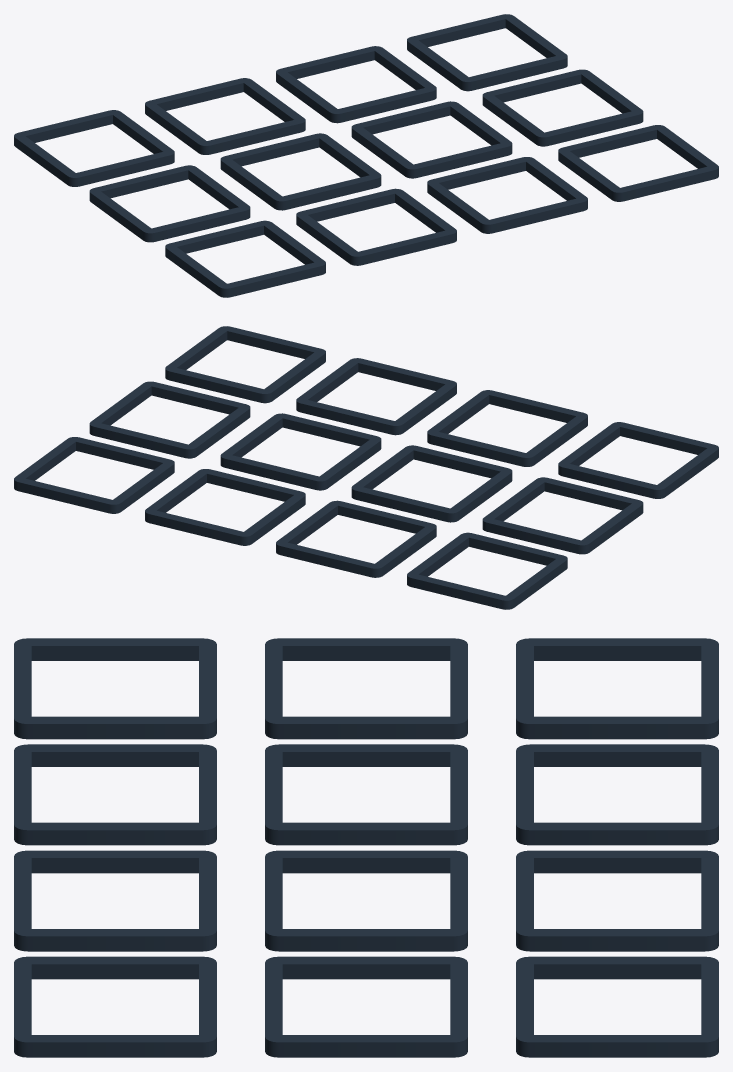
Rendered from Playing_Field.fbx.
3 views of the same model, one above another, from view 1: azimuth 30°, elevation 25°; view 2: azimuth 150°, elevation 25°; view 3: azimuth 270°, elevation 25° (orthographic). The views are drawn at different scales.
Visible parts, largest first — view 1: Playing_Field; view 2: Playing_Field; view 3: Playing_Field.
Part boxes in pixels (x1=…): Playing_Field: x1=14, y1=14, x2=718, y2=297; Playing_Field: x1=14, y1=326, x2=718, y2=609; Playing_Field: x1=14, y1=638, x2=718, y2=1057.
Size of the model in its own units: 7.14 by 0.125 by 5.27.
